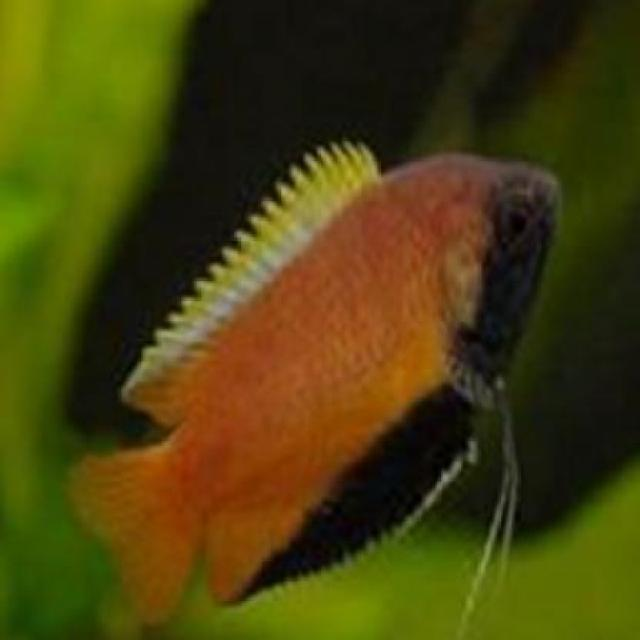Gourami: (66, 131, 562, 620)
